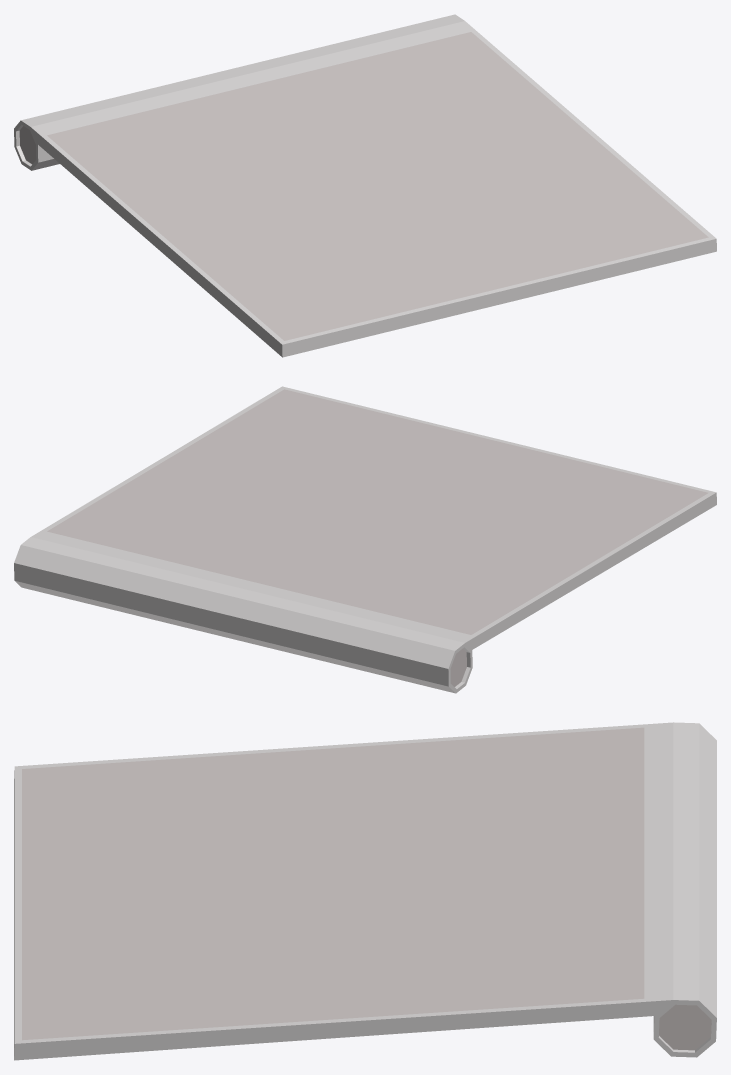
Rendered from MouseV3.fbx.
3 views of the same model, one above another, from view 1: azimuth 30°, elevation 25°; view 2: azimuth 150°, elevation 25°; view 3: azimuth 270°, elevation 25° (orthographic). The views are drawn at different scales.
Visible parts, largest first — view 1: MouseV3; view 2: MouseV3; view 3: MouseV3.
Boxes of the visible parts, x1=… form: MouseV3: x1=14, y1=14, x2=716, y2=357; MouseV3: x1=14, y1=386, x2=716, y2=693; MouseV3: x1=14, y1=722, x2=716, y2=1060.
Bounding box in the file's own units: 11.14 × 1.13 × 11.93.
